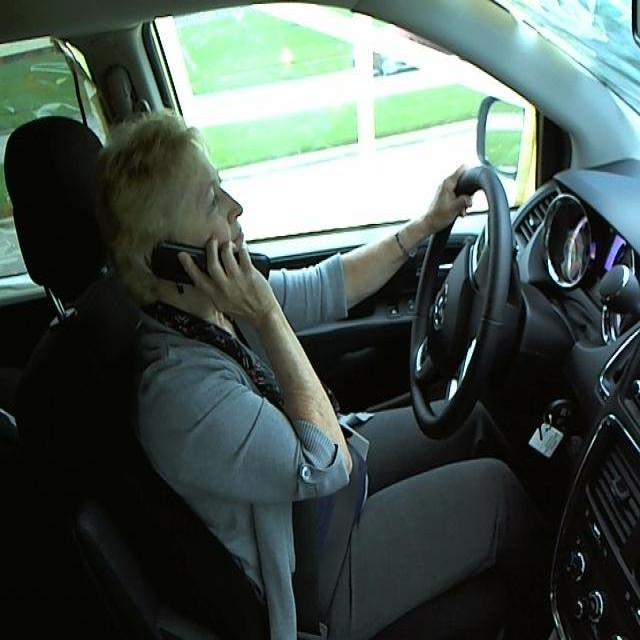using_phone: (87, 79, 303, 324)
